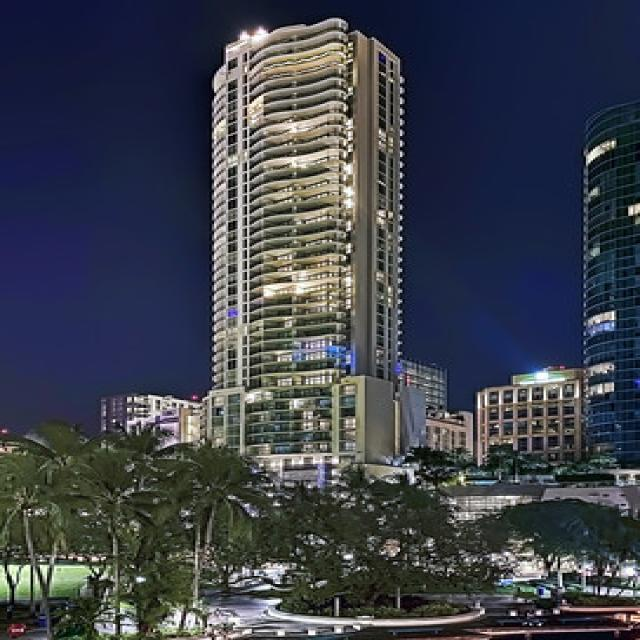building: (184, 15, 416, 486)
